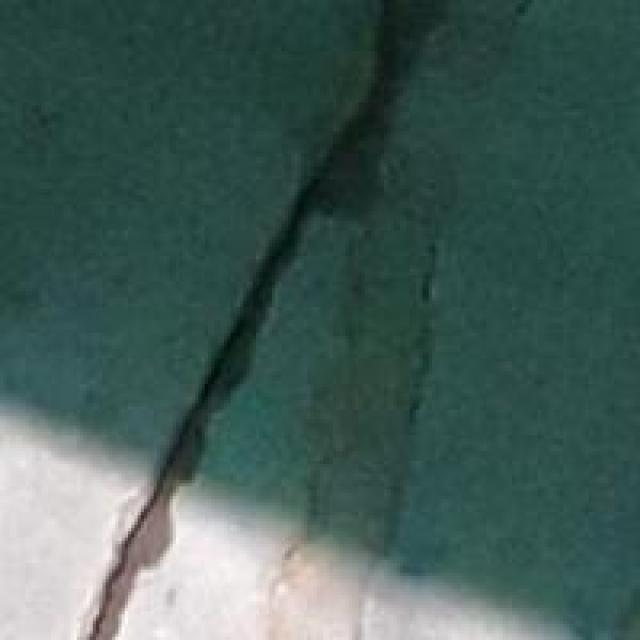Crack: (68, 0, 439, 637)
